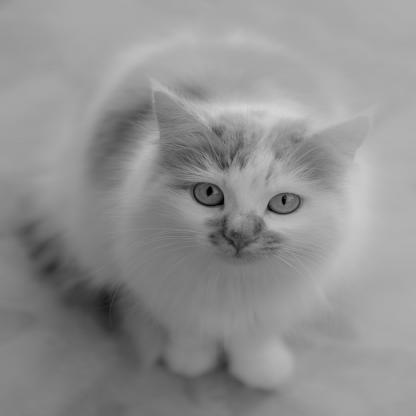cat: (134, 75, 378, 392)
